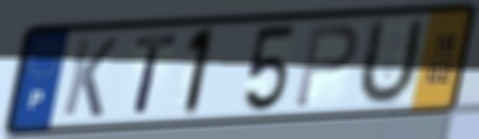1: (182, 24, 219, 119)
5: (238, 21, 302, 114)
K: (59, 35, 121, 120)
P: (291, 22, 361, 111)
T: (131, 31, 181, 116)
U: (352, 14, 428, 110)
